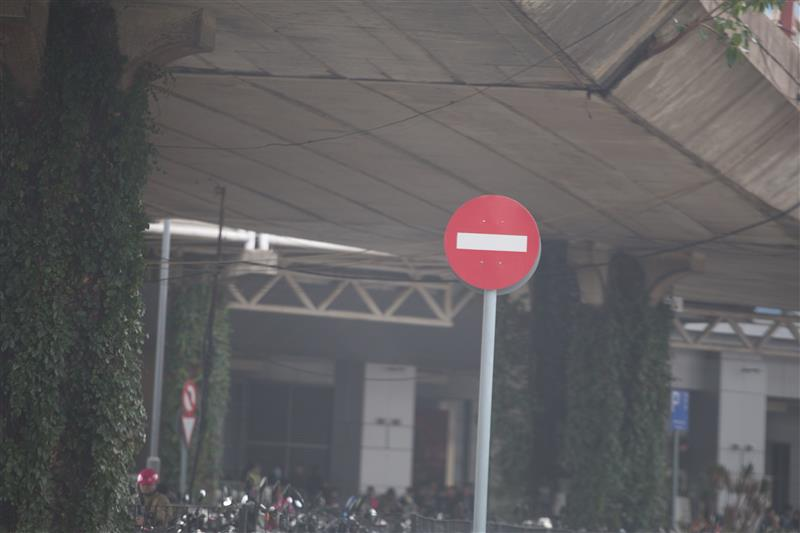noEntry: (443, 194, 542, 292)
